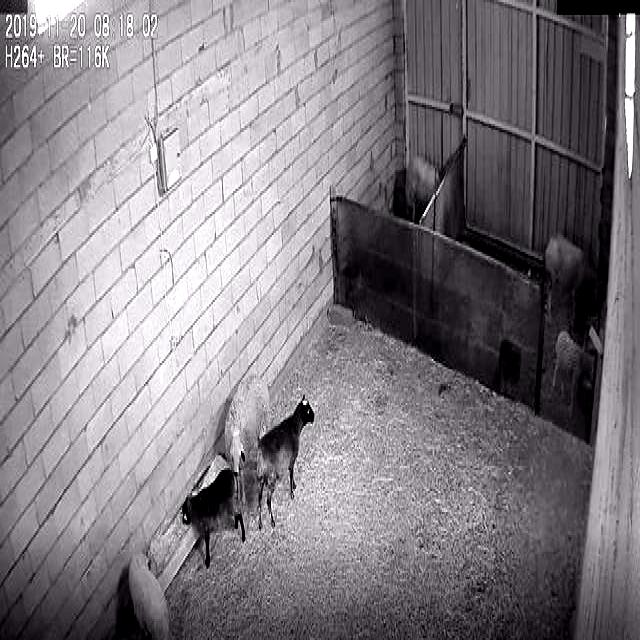sheep: (255, 391, 318, 532), (225, 378, 272, 478)
